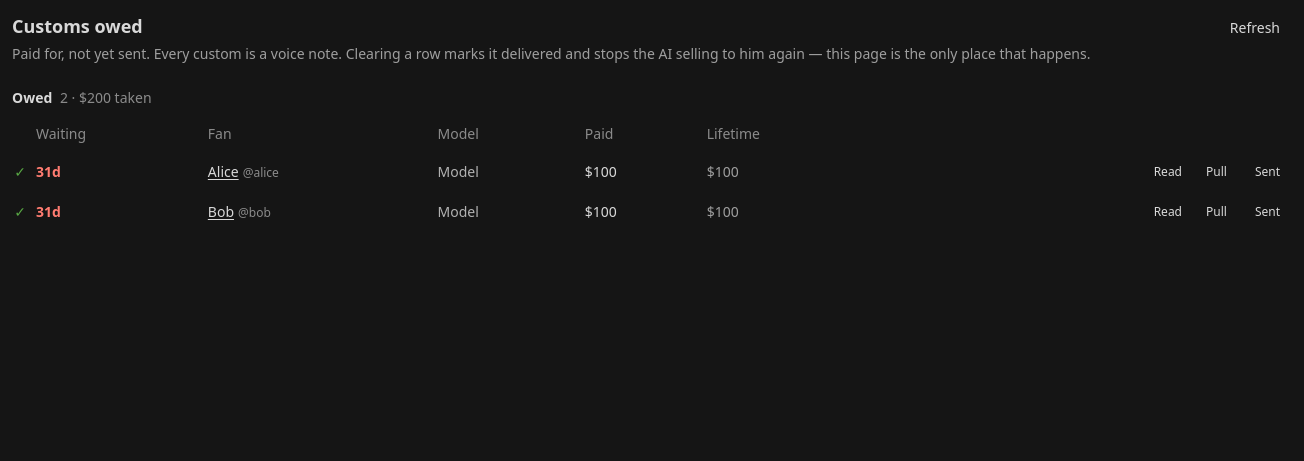
CustomsTab pane › a rejected clipboard write is shown as a failure, not as Copied
Step 1. Click the 1st button titled "Read the conversation around this tip" → (1168, 172), box [1146,160,1190,184]
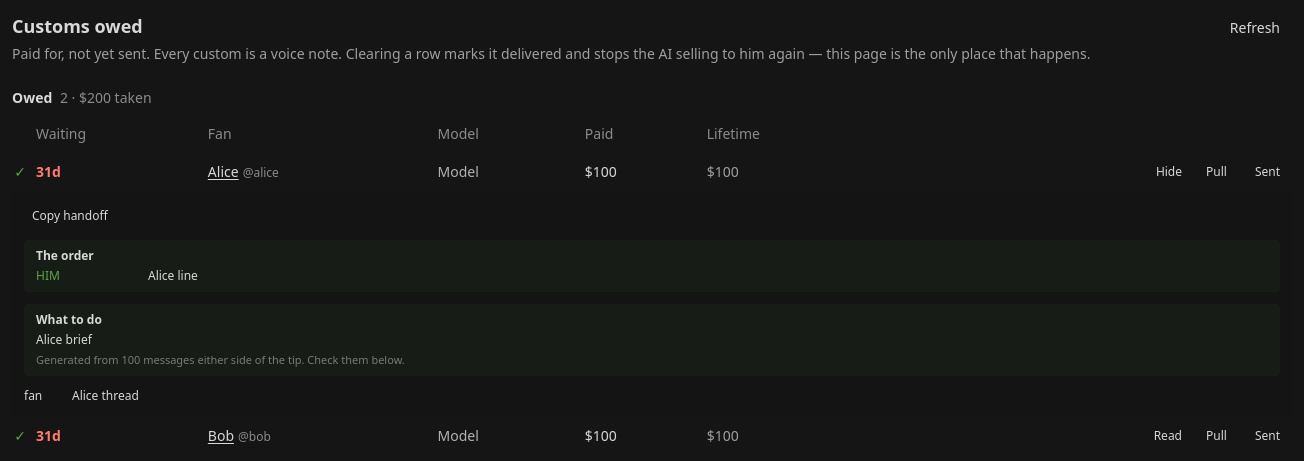
Step 2. Click the button "Copy handoff" → (70, 216), box [24,204,116,228]
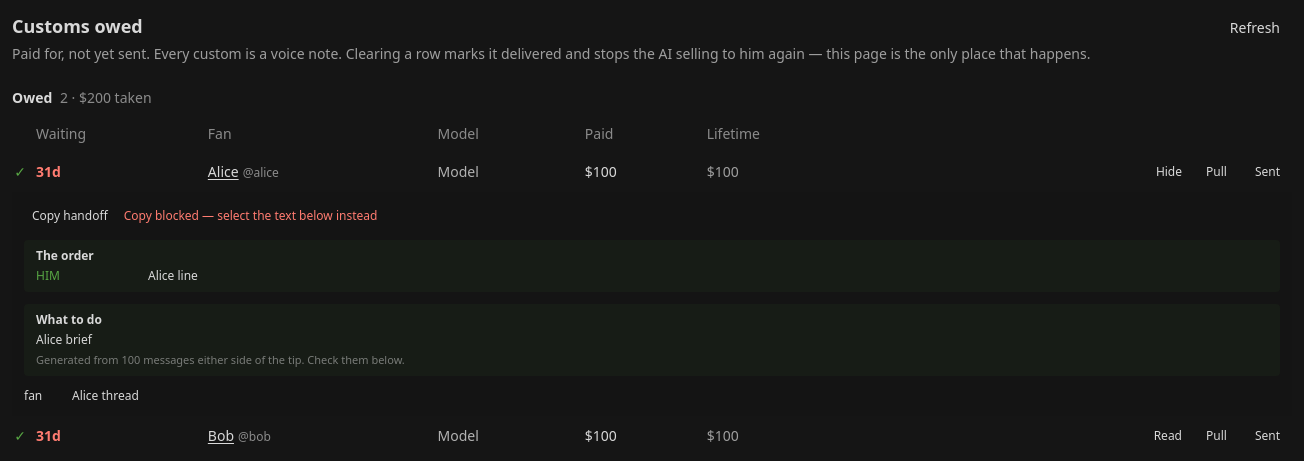
Expected: the text "Copy blocked — select the text below instead" is shown, [124,208,377,224]
